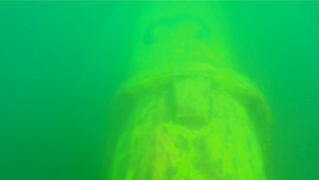3: (142, 15, 209, 46)
pipe: (108, 1, 274, 179)
